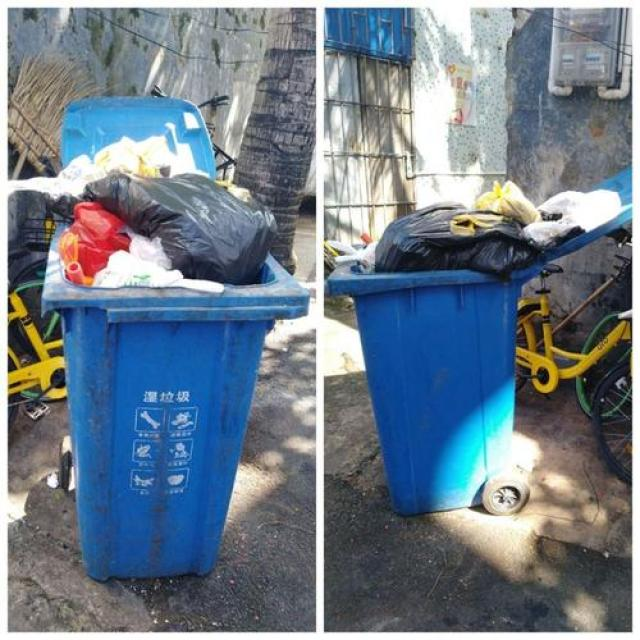overflow: (8, 134, 308, 578), (328, 180, 620, 514)
